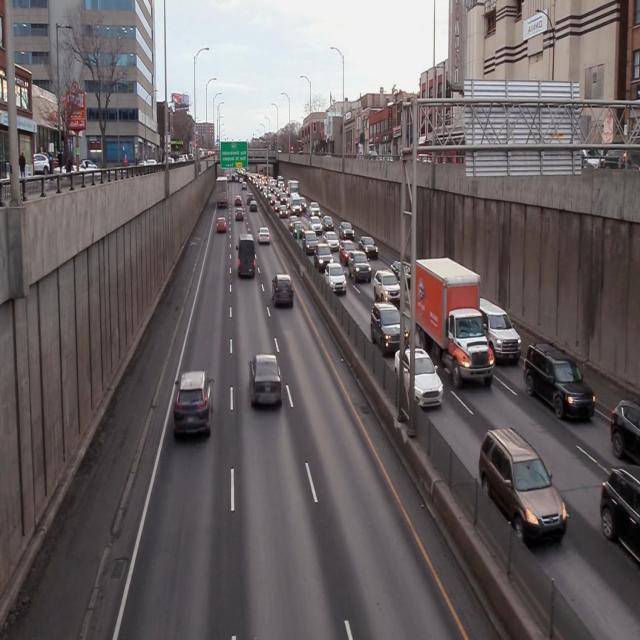Vehicle: (478, 427, 567, 548), (410, 260, 494, 387), (524, 341, 596, 429), (395, 346, 443, 421), (175, 371, 213, 436), (482, 300, 523, 359), (248, 352, 283, 412), (366, 302, 407, 353), (372, 270, 401, 303), (271, 271, 294, 311), (236, 235, 256, 281), (257, 222, 270, 248), (215, 217, 228, 234)
